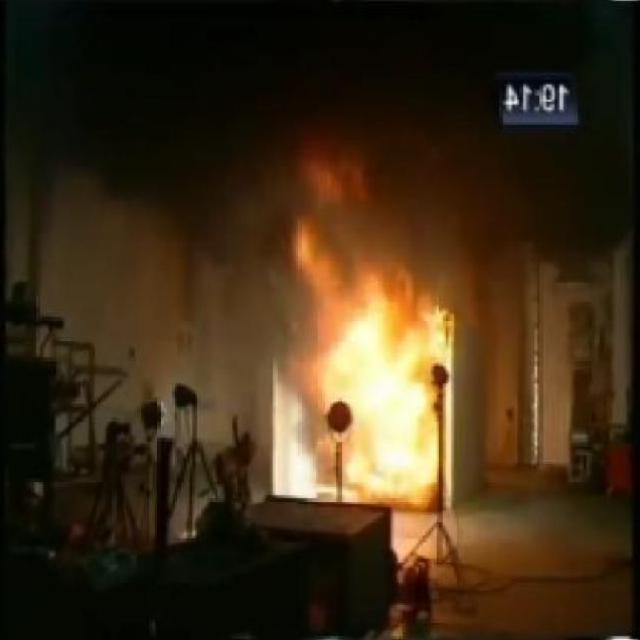smoke: (288, 160, 453, 507)
